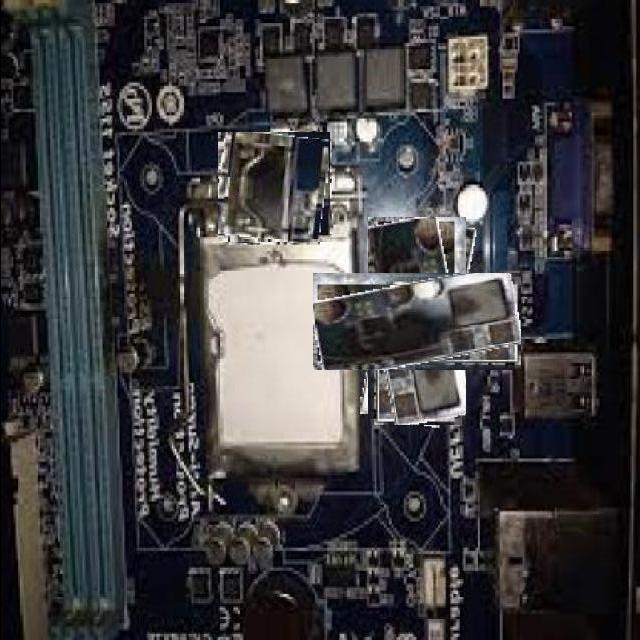damged: (340, 245, 494, 398), (218, 132, 330, 242)
